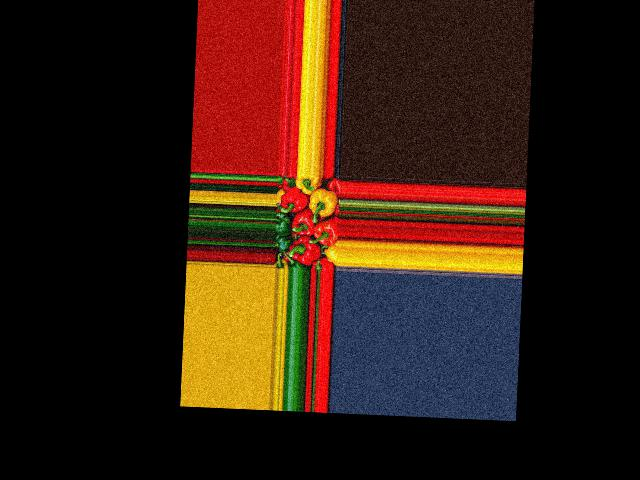bell_pepper: (325, 245, 338, 262)
